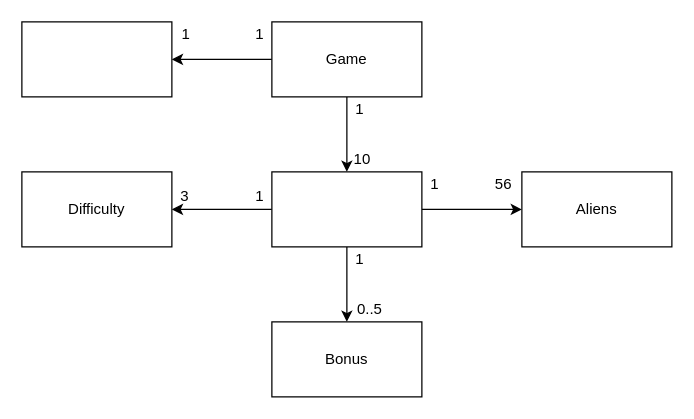
Some shapes in this 694 by 419 pixel diagram are drawn without their labels. Each missing label, with the box of its shape:
Level: (271, 171, 422, 247)
Player: (21, 21, 172, 97)
